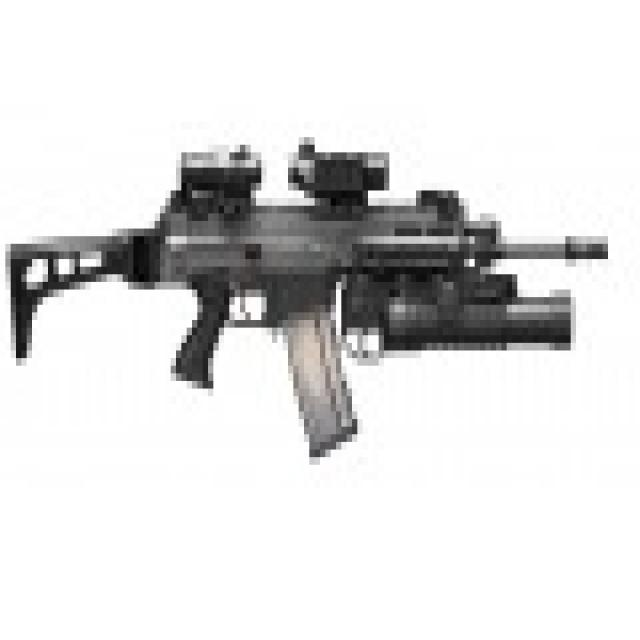Gun: (14, 140, 618, 454)
